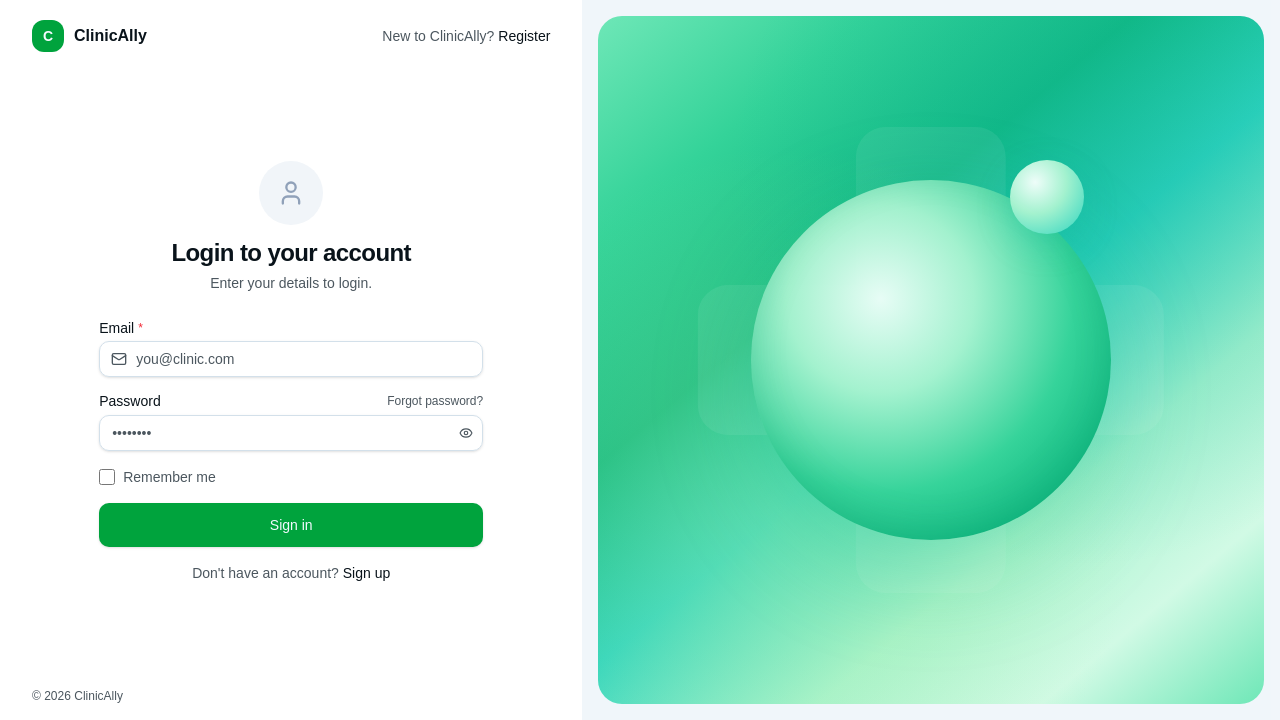
LoginPage › shows validation error when submitted empty
Click the button "Sign in" at (291, 525), box [99,503,483,547]
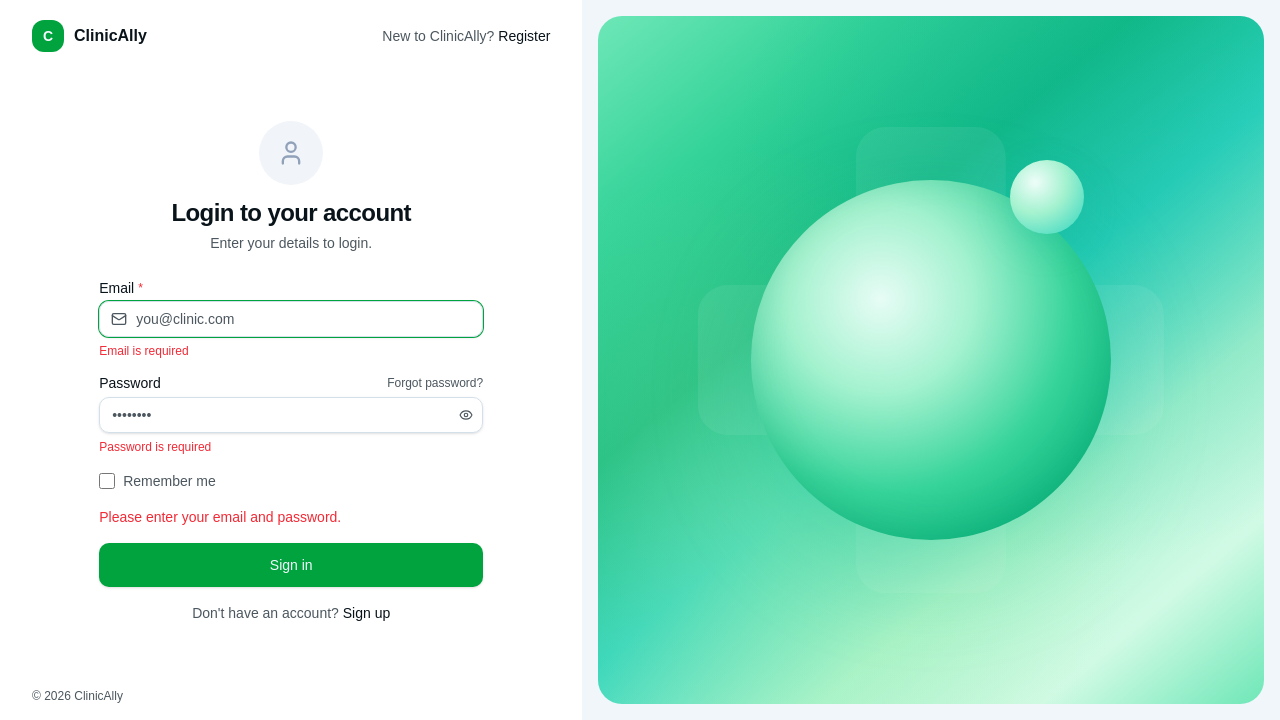
expect the text "Please enter your email and password." is shown: met, box [99,509,341,525]
